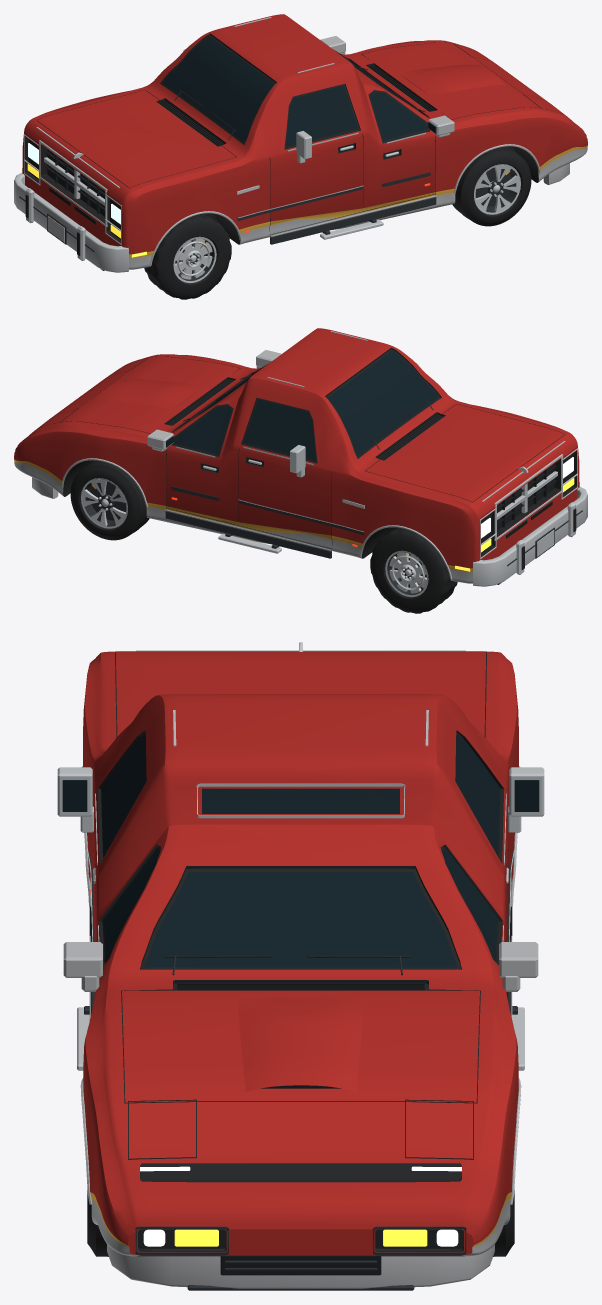
File: ramjet_blueprint.glb
3 views of the same model, one above another, from view 1: azimuth 30°, elevation 25°; view 2: azimuth 150°, elevation 25°; view 3: azimuth 270°, elevation 25° (orthographic). The views are drawn at different scales.
Visible parts, largest first — view 1: Body_RamjetShell.001, Detail_BrushedMetal, Glass_TruckWindshield.001, Wheel_Truck_Tire_-1.001, Glass_TruckSide_R.001, Wheel_Coupe_Tire_-1.001, Detail_Gunmetal, Detail_Paint, Detail_Grille, Detail_Secondary, Glass_CoupeSide_R.001, Wheel_Coupe_Hub_-1.001 (+4 smaller); view 2: Body_RamjetShell.001, Detail_BrushedMetal, Glass_TruckWindshield.001, Wheel_Truck_Tire_+1.001, Glass_TruckSide_L.001, Wheel_Coupe_Tire_+1.001, Detail_Gunmetal, Detail_Paint, Detail_Grille, Detail_Secondary, Glass_CoupeSide_L.001, Wheel_Coupe_Hub_+1.001 (+4 smaller); view 3: Body_RamjetShell.001, Glass_CoupeWindshield.001, Detail_Secondary, Detail_Paint, Detail_BrushedMetal, Glass_CabRear.001, Detail_Grille, Detail_Gunmetal, Glass_TruckSide_L.001, Glass_TruckSide_R.001, Glass_CoupeSide_R.001, Glass_CoupeSide_L.001 (+3 smaller).
Boxes of the visible parts, box(x1,y1,x2,y2) form: Body_RamjetShell.001: box(22, 14, 587, 269); Detail_BrushedMetal: box(14, 17, 436, 272); Glass_TruckWindshield.001: box(163, 36, 274, 142); Wheel_Truck_Tire_-1.001: box(144, 213, 231, 299); Glass_TruckSide_R.001: box(286, 85, 357, 146); Wheel_Coupe_Tire_-1.001: box(452, 146, 531, 226); Detail_Gunmetal: box(19, 67, 586, 270); Detail_Paint: box(400, 64, 505, 95); Detail_Grille: box(45, 65, 436, 224); Detail_Secondary: box(149, 36, 569, 265); Glass_CoupeSide_R.001: box(370, 92, 427, 140); Wheel_Coupe_Hub_-1.001: box(475, 167, 511, 206); Body_RamjetShell.001: box(14, 328, 579, 583); Detail_BrushedMetal: box(165, 331, 587, 586); Glass_TruckWindshield.001: box(327, 350, 438, 456); Wheel_Truck_Tire_+1.001: box(370, 527, 457, 613); Glass_TruckSide_L.001: box(244, 399, 315, 460); Wheel_Coupe_Tire_+1.001: box(70, 460, 149, 540); Detail_Gunmetal: box(15, 376, 582, 584); Detail_Paint: box(96, 378, 202, 409); Detail_Grille: box(165, 379, 556, 538); Detail_Secondary: box(32, 350, 452, 579); Glass_CoupeSide_L.001: box(174, 406, 231, 454); Wheel_Coupe_Hub_+1.001: box(90, 481, 126, 520); Body_RamjetShell.001: box(83, 651, 518, 1256); Glass_CoupeWindshield.001: box(144, 872, 457, 967); Detail_Secondary: box(63, 766, 538, 1288); Detail_Paint: box(238, 997, 363, 1091); Detail_BrushedMetal: box(57, 642, 544, 1070); Glass_CabRear.001: box(202, 788, 399, 813); Detail_Grille: box(177, 983, 424, 1275); Detail_Gunmetal: box(84, 851, 517, 1290); Glass_TruckSide_L.001: box(455, 734, 499, 856); Glass_TruckSide_R.001: box(102, 734, 146, 856); Glass_CoupeSide_R.001: box(103, 849, 160, 962); Glass_CoupeSide_L.001: box(441, 849, 498, 962).
Size of the model in its own units: 5.52 by 1.96 by 2.36.
